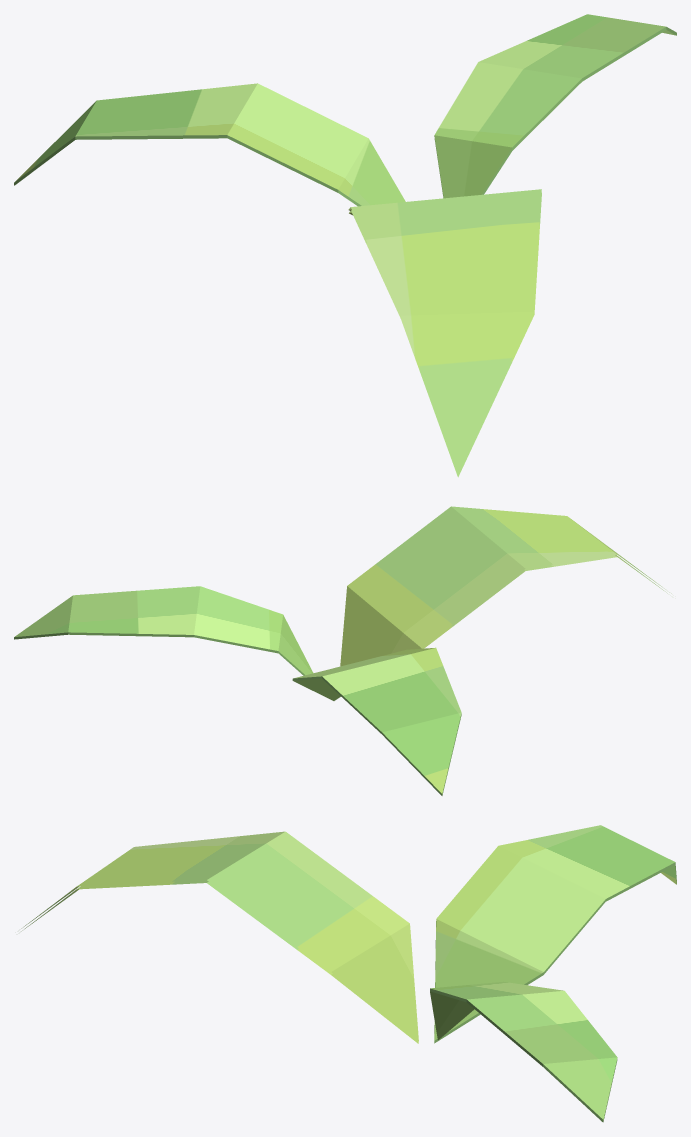
Rendered from fern1.fbx.
3 renders of one model, top to bottom at view 1: azimuth 30°, elevation 25°; view 2: azimuth 150°, elevation 25°; view 3: azimuth 270°, elevation 25°, orthographic. The views are drawn at different scales.
Visible parts, largest first — view 1: fern1; view 2: fern1; view 3: fern1.
Part boxes in pixels (x1,y1,x2,y2): fern1: (14, 14, 676, 477); fern1: (14, 506, 671, 795); fern1: (21, 825, 676, 1122).
Bounding box in the file's own units: 99.79 × 25.22 × 93.98.
